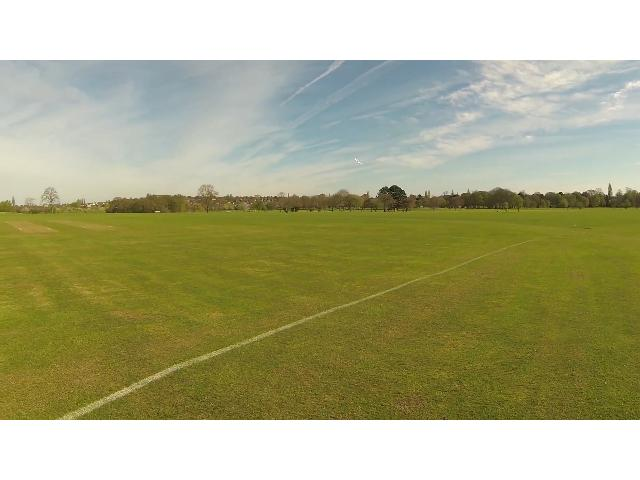Anti-Drone: (350, 155, 366, 166)
